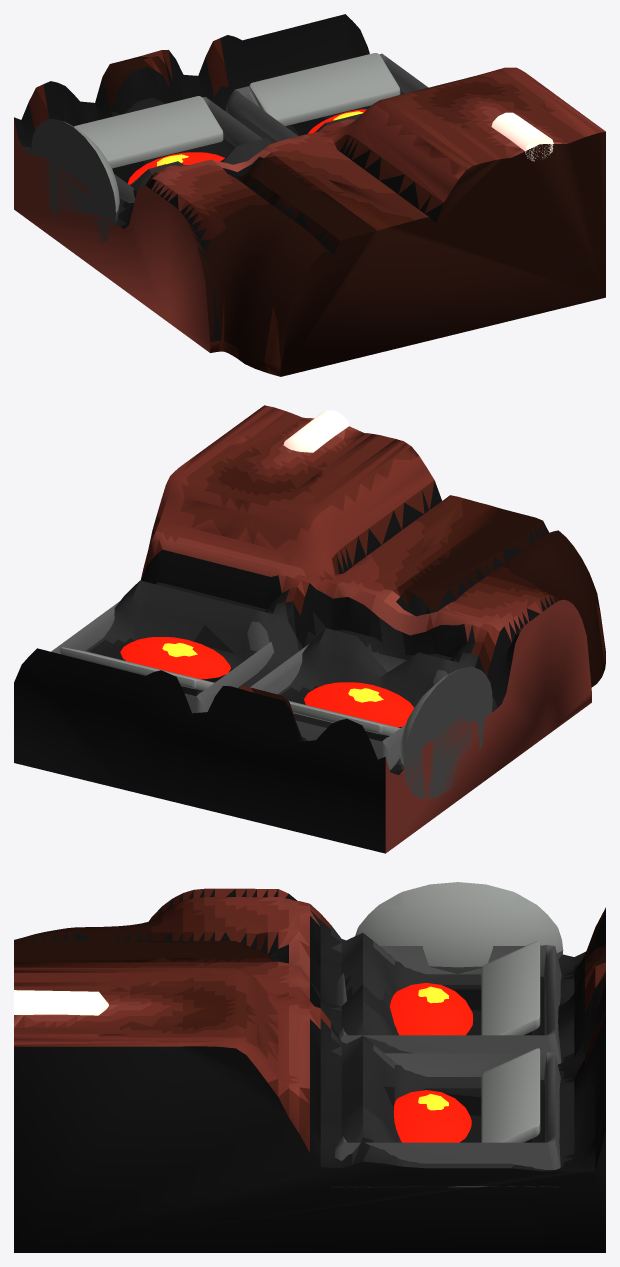
File: savara_boss_232.glb
3 renders of one model, top to bottom at view 1: azimuth 30°, elevation 25°; view 2: azimuth 150°, elevation 25°; view 3: azimuth 270°, elevation 25°, orthographic. The views are drawn at different scales.
Visible parts, largest first — view 1: savara_boss_232_hull; view 2: savara_boss_232_hull; view 3: savara_boss_232_hull.
Part boxes in pixels (left/top/right/bottom): savara_boss_232_hull: left=14, top=14, right=605, bottom=376; savara_boss_232_hull: left=14, top=405, right=605, bottom=853; savara_boss_232_hull: left=14, top=882, right=605, bottom=1252.
Bounding box in the file's own units: 24 × 11.49 × 28.
